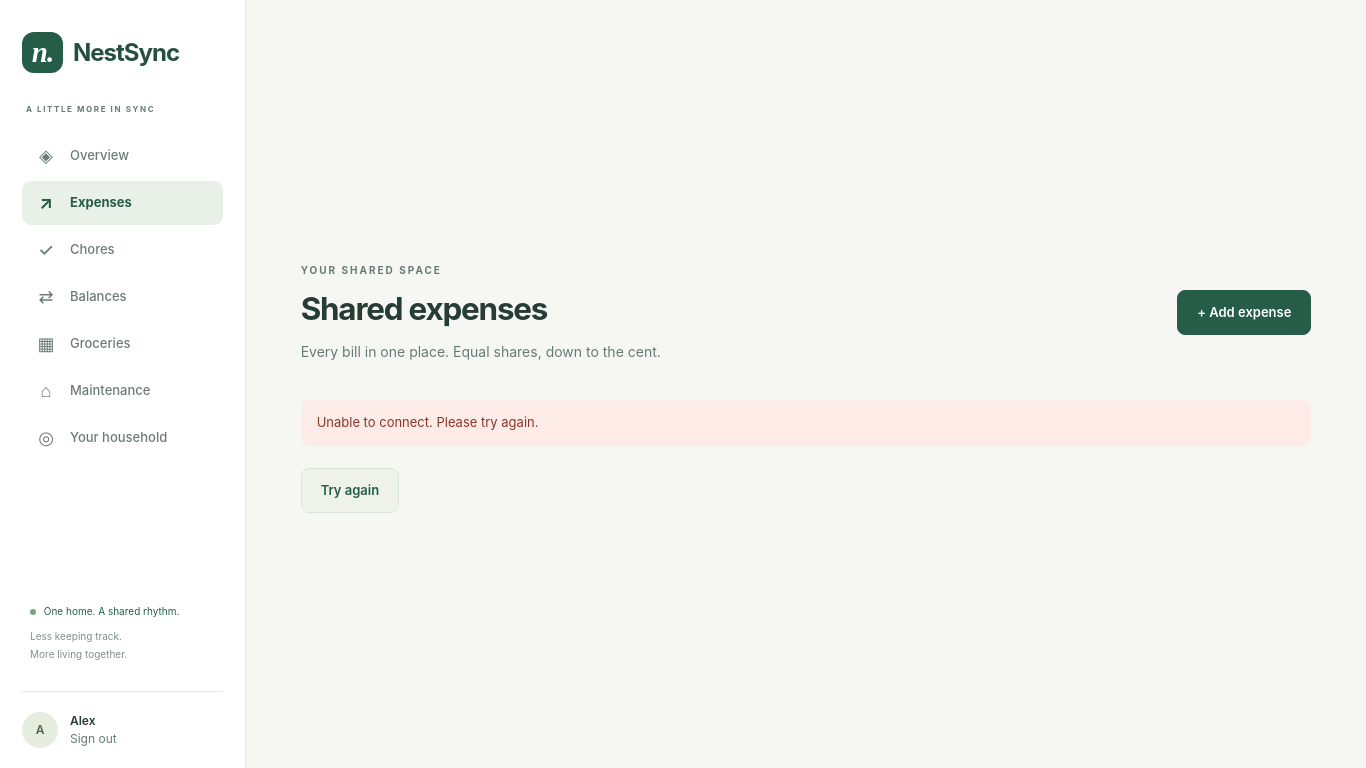
Test: lets a user retry a failed list request
Step 1. Click the button "Try again" → [350, 490], box 301,468 -> 399,513
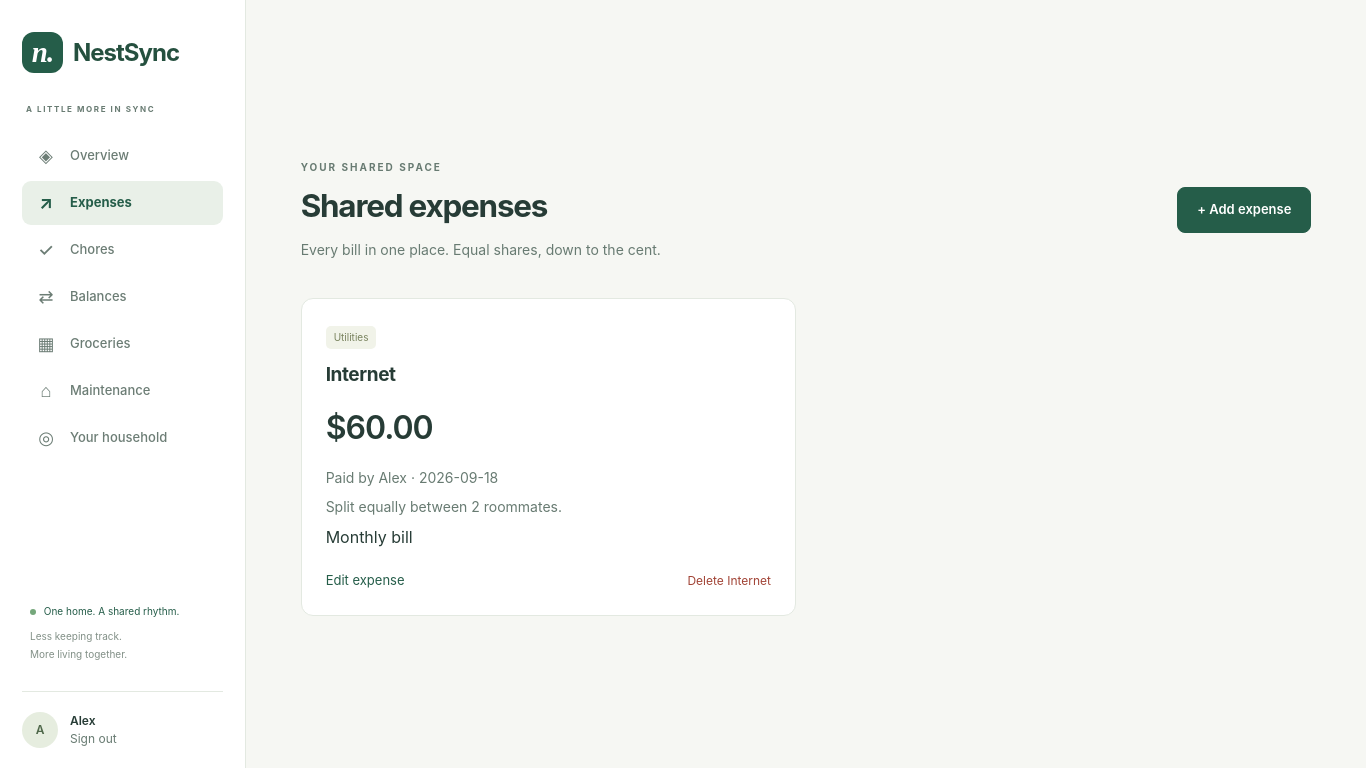
Expected: the heading "Internet" is shown, 326,363 -> 396,386
